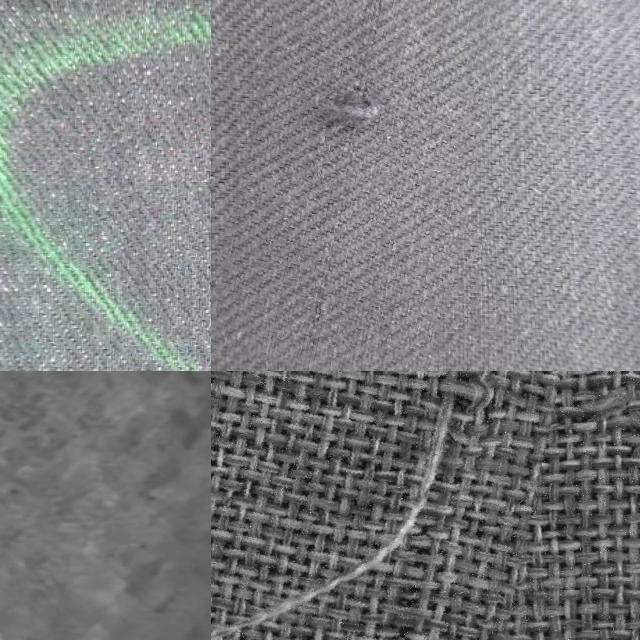Thread_other: (224, 0, 498, 371), (211, 371, 569, 640)
